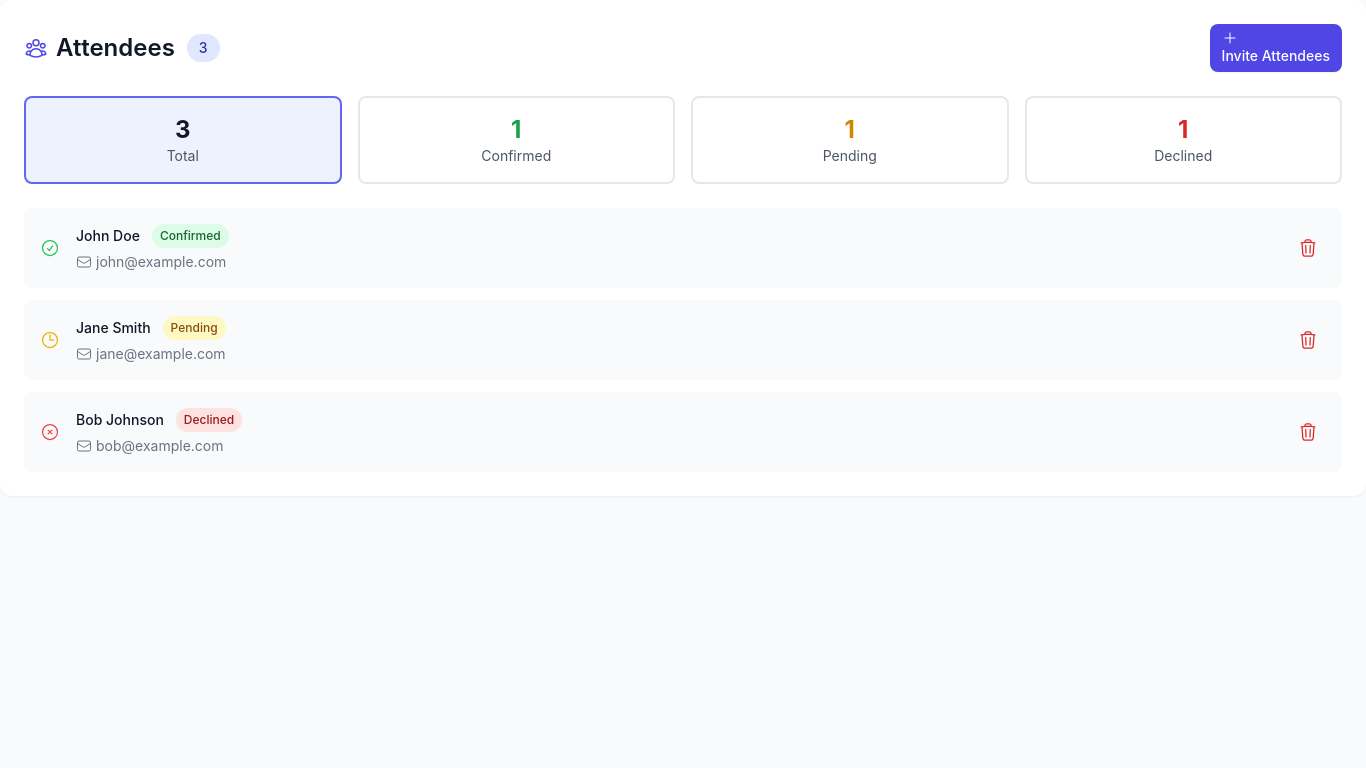
Scenario: AttendeeList › opens invite modal when clicking invite button
Expected: the text "John Doe" is shown, x1=76 y1=226 x2=140 y2=246
Step 1. Click the button "Invite Attendees" → x=1276, y=48, box x1=1210 y1=24 x2=1342 y2=72
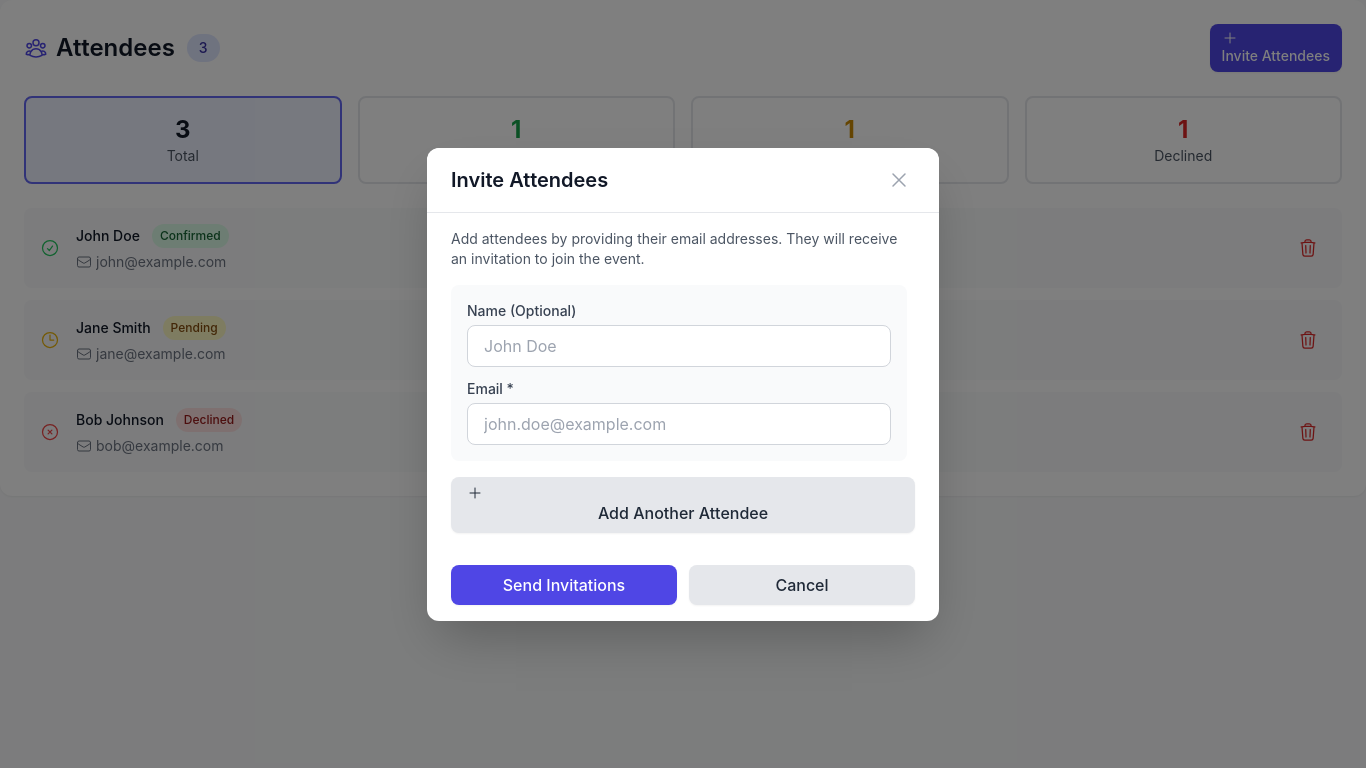
Now the button "Send Invitations" is shown, box x1=451 y1=564 x2=677 y2=604
